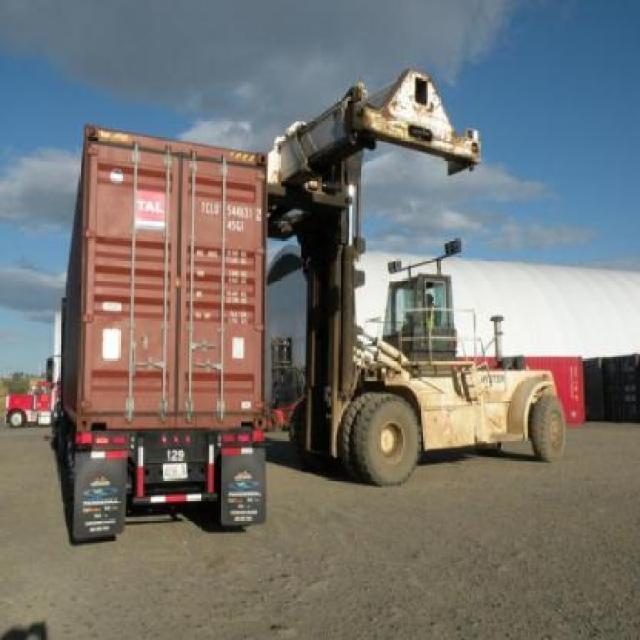ISO: (224, 213, 248, 236)
container_number: (201, 200, 260, 219)
